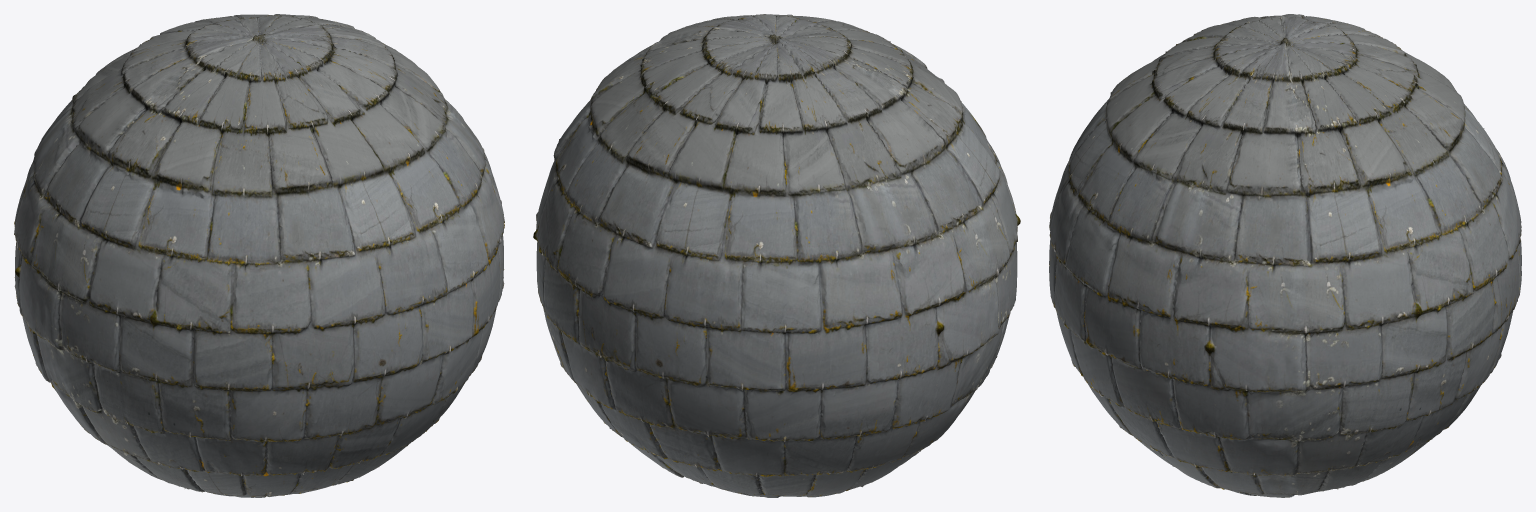
The model's file is grey_roof_tiles_02_1k.glb.
3 renders of one model, left to right at view 1: azimuth 30°, elevation 25°; view 2: azimuth 150°, elevation 25°; view 3: azimuth 270°, elevation 25°, orthographic. The views are drawn at different scales.
Visible parts, largest first — view 1: sphere_gltf; view 2: sphere_gltf; view 3: sphere_gltf.
Boxes of the visible parts, <box> form: sphere_gltf: <box>14,14,504,497</box>; sphere_gltf: <box>533,14,1020,497</box>; sphere_gltf: <box>1049,14,1521,497</box>.
Bounding box in the file's own units: 1.53 × 1.52 × 1.49.
Materials: 1 (1 with a texture image).
